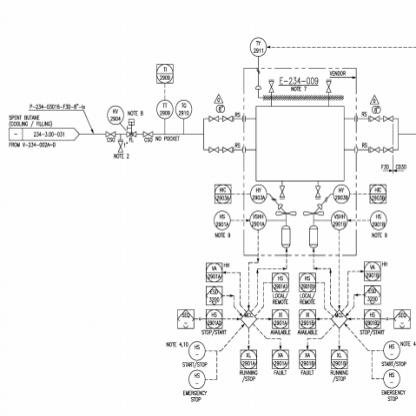LMI: (104, 100, 124, 124), (369, 209, 389, 232), (174, 96, 193, 120), (250, 182, 268, 206), (211, 210, 231, 230), (188, 339, 206, 361), (383, 367, 401, 388), (188, 368, 206, 389), (248, 36, 266, 57), (333, 184, 350, 206), (331, 208, 348, 230), (383, 338, 400, 360), (154, 100, 174, 118), (249, 210, 267, 230)
TAG: (155, 61, 176, 85), (363, 256, 382, 282), (271, 307, 292, 329), (212, 182, 232, 204), (297, 270, 317, 292), (271, 272, 291, 294), (240, 348, 260, 370), (369, 182, 387, 206), (298, 349, 318, 370), (330, 349, 350, 370), (204, 262, 223, 284), (363, 307, 382, 329), (271, 348, 290, 370), (298, 308, 317, 329), (205, 308, 223, 329)
